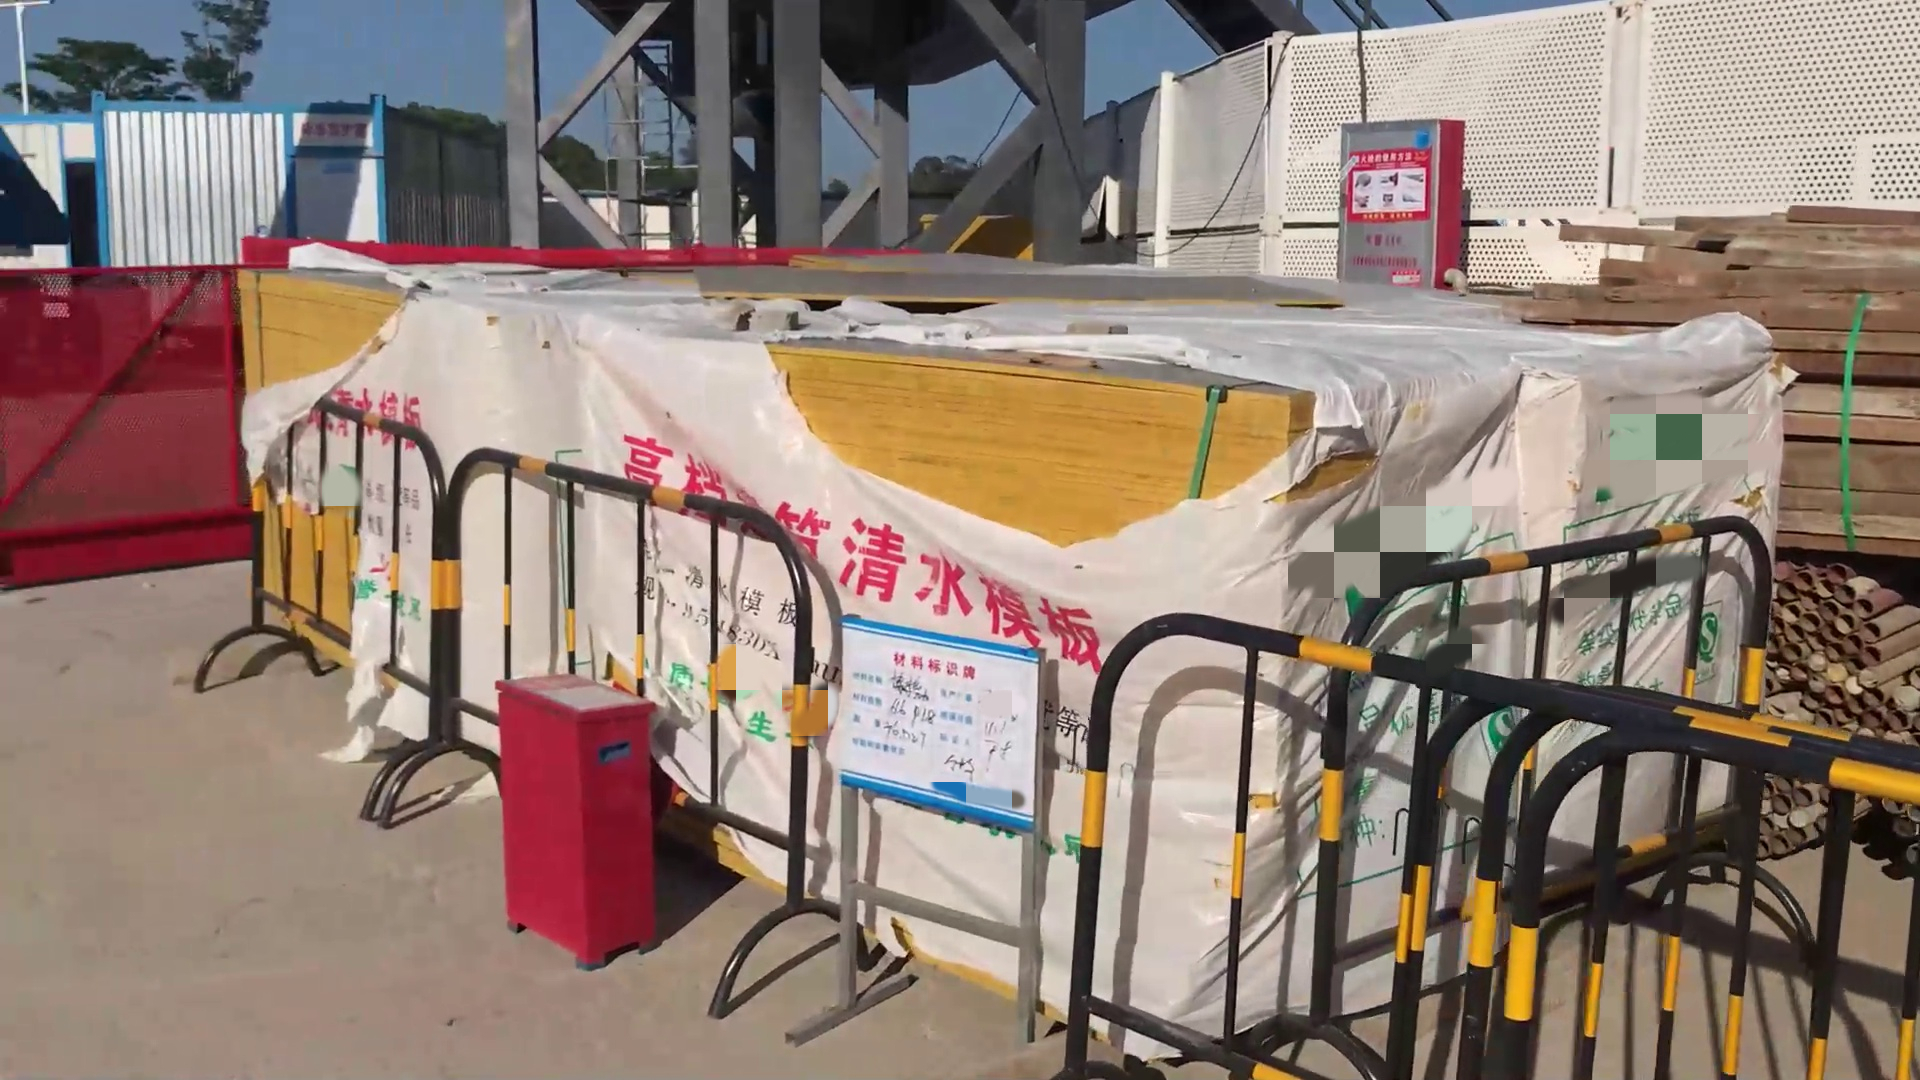fence: (1073, 600, 1903, 1080), (255, 411, 831, 967), (7, 262, 252, 591), (1394, 513, 1764, 669)
rebar: (1759, 543, 1920, 752)
wood: (1611, 215, 1920, 531)
